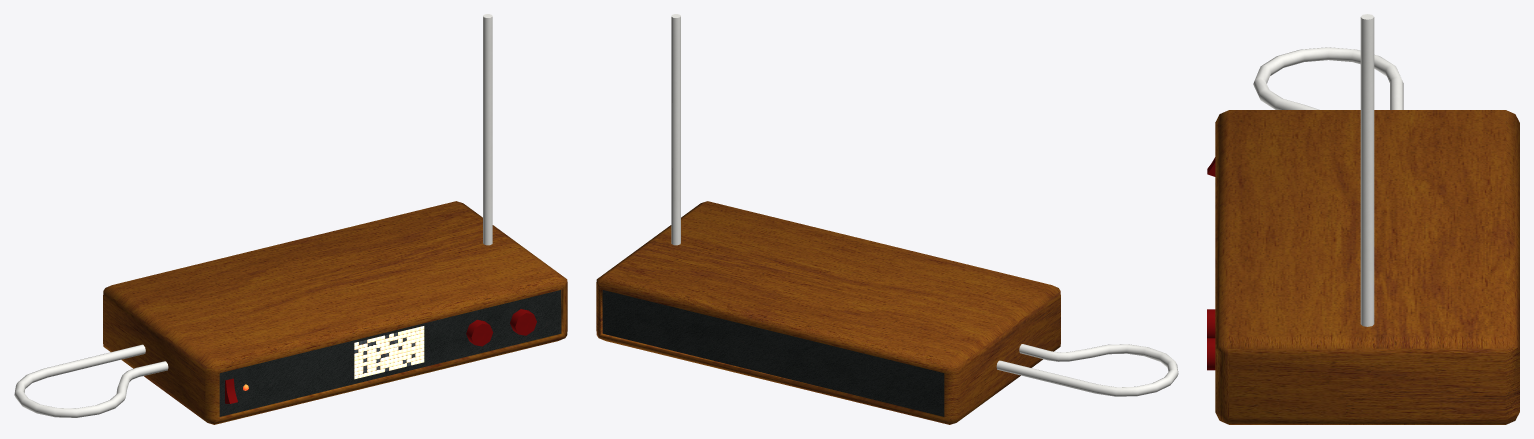
The model's file is theremin_t.glb.
The picture shows the model from 3 angles, left to right: view 1: azimuth 30°, elevation 25°; view 2: azimuth 150°, elevation 25°; view 3: azimuth 270°, elevation 25°; orthographic projection. The views are drawn at different scales.
Visible parts, largest first — view 1: ThereminBody_10, EmptyScreen_11; view 2: ThereminBody_10; view 3: ThereminBody_10.
Boxes of the visible parts, x1,y1,x2,y2 form: ThereminBody_10: [14, 14, 567, 424]; EmptyScreen_11: [354, 326, 424, 379]; ThereminBody_10: [596, 14, 1178, 424]; ThereminBody_10: [1207, 14, 1519, 424].
Size of the model in its own units: 0.4651 by 0.2549 by 0.1829.
6 materials, 6 textured.
